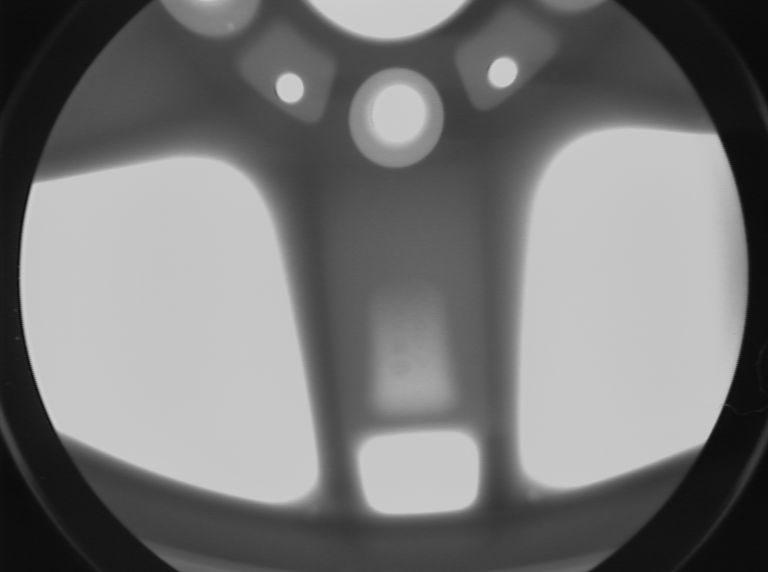defect: (225, 19, 240, 36)
